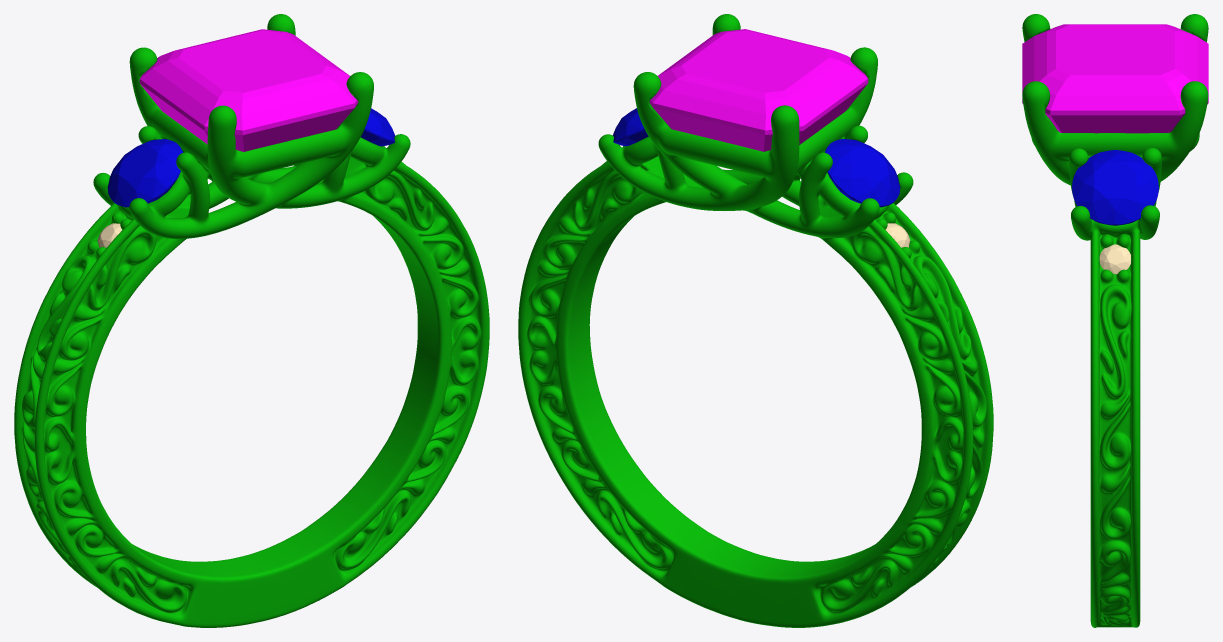
File: BE1DAS2R30_AS_200ct_RENDER.glb
3 renders of one model, left to right at view 1: azimuth 30°, elevation 25°; view 2: azimuth 150°, elevation 25°; view 3: azimuth 270°, elevation 25°, orthographic.
Parts seen in each view (by area): view 1: Metal 01, CS_Diamond_Asscher, Diamond_Round_side, Diamond_Round_side.001; view 2: Metal 01, CS_Diamond_Asscher, Diamond_Round_side, Diamond_Round_side.001; view 3: Metal 01, CS_Diamond_Asscher, Diamond_Round_side.001, Diamond_Round_Gem_SH.
Part boxes in pixels (<box>): Metal 01: <box>14,14,489,627</box>; CS_Diamond_Asscher: <box>139,29,358,151</box>; Diamond_Round_side: <box>107,139,183,207</box>; Diamond_Round_side.001: <box>361,108,395,146</box>; Metal 01: <box>518,14,993,627</box>; CS_Diamond_Asscher: <box>649,29,868,151</box>; Diamond_Round_side: <box>824,139,900,207</box>; Diamond_Round_side.001: <box>612,108,648,146</box>; Metal 01: <box>1022,14,1208,627</box>; CS_Diamond_Asscher: <box>1022,24,1208,133</box>; Diamond_Round_side.001: <box>1072,150,1158,225</box>; Diamond_Round_Gem_SH: <box>1099,244,1130,274</box>.
Size of the model in its own units: 21.19 by 24.64 by 7.5.
